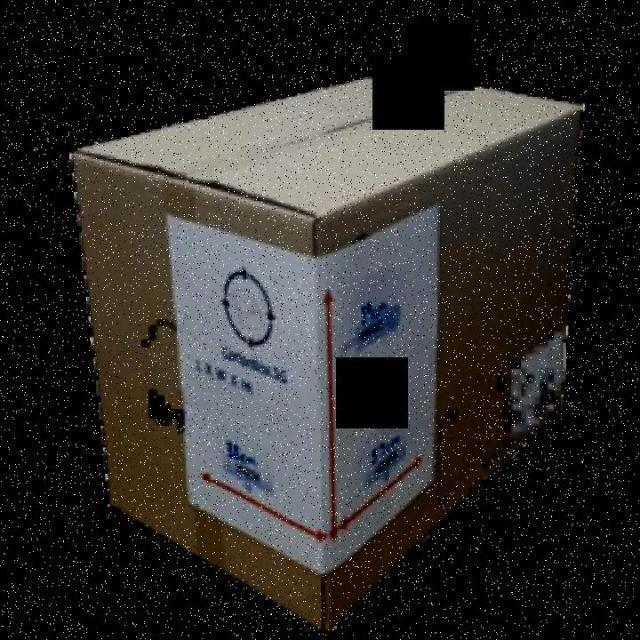box: (60, 67, 588, 638)
